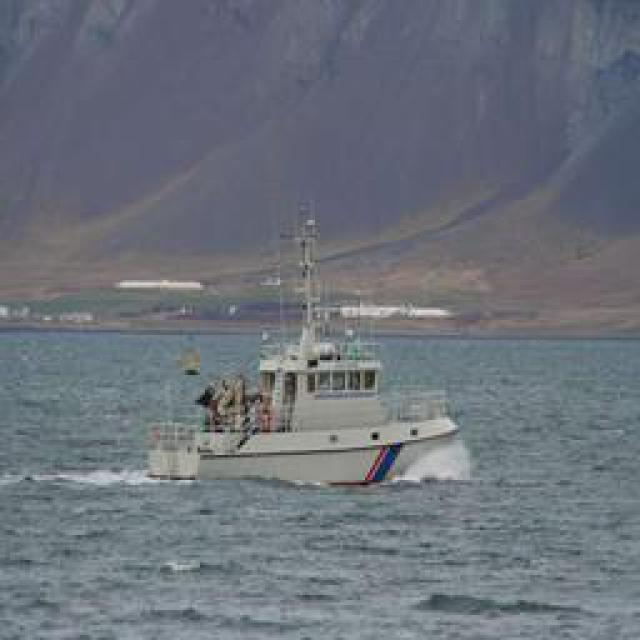Ship: (150, 182, 463, 485)
